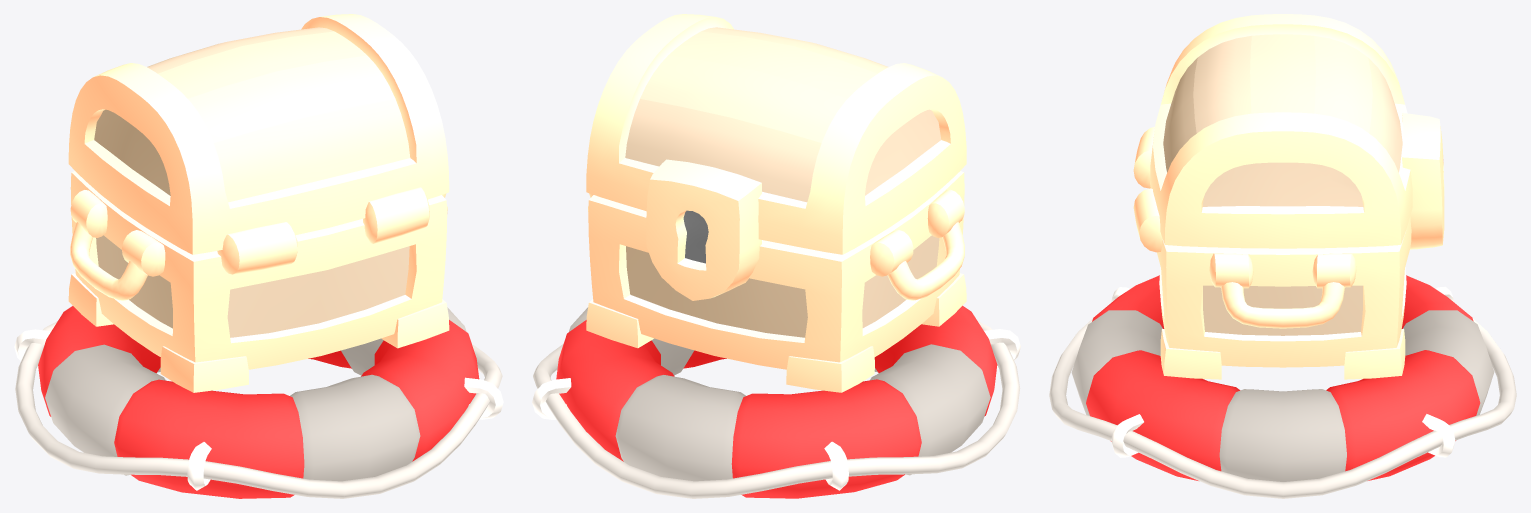
Rendered from lifebuoy.fbx.
The picture shows the model from 3 angles, left to right: view 1: azimuth 30°, elevation 25°; view 2: azimuth 150°, elevation 25°; view 3: azimuth 270°, elevation 25°; orthographic projection. The views are drawn at different scales.
Parts seen in each view (by area): view 1: chestLid, lifebuoy, chestBase; view 2: chestLid, lifebuoy, chestBase; view 3: chestLid, lifebuoy, chestBase.
Part boxes in pixels (x1=…): chestLid: x1=68, y1=14, x2=449, y2=254; lifebuoy: x1=14, y1=306, x2=503, y2=498; chestBase: x1=68, y1=171, x2=449, y2=392; chestLid: x1=586, y1=14, x2=966, y2=300; lifebuoy: x1=532, y1=305, x2=1020, y2=498; chestBase: x1=586, y1=171, x2=966, y2=392; chestLid: x1=1150, y1=14, x2=1444, y2=249; lifebuoy: x1=1049, y1=275, x2=1516, y2=498; chestBase: x1=1133, y1=126, x2=1411, y2=379.
Bounding box in the file's own units: 1.11 × 0.912 × 1.11.
